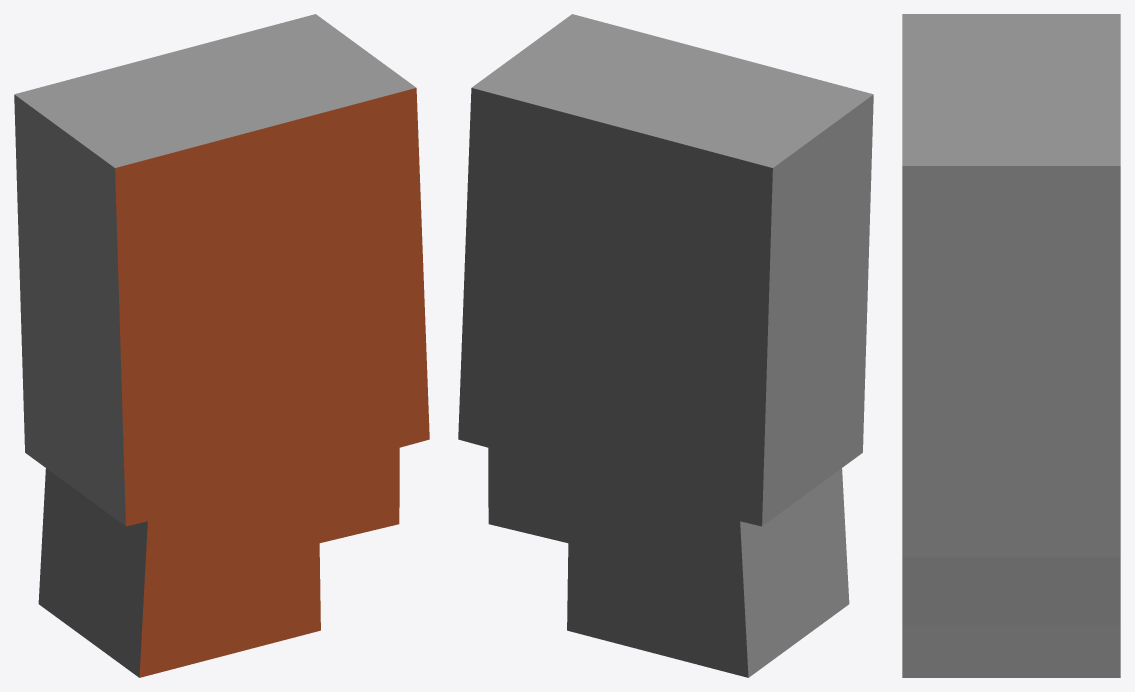
File: construction_3732_assumed_A_Casa_h6m.obj
The picture shows the model from 3 angles, left to right: view 1: azimuth 30°, elevation 25°; view 2: azimuth 150°, elevation 25°; view 3: azimuth 270°, elevation 25°; orthographic projection. The views are drawn at different scales.
Parts seen in each view (by area): view 1: construction_3732_assumed_A_Casa; view 2: construction_3732_assumed_A_Casa; view 3: construction_3732_assumed_A_Casa.
Part boxes in pixels (box(x1,y1,x2,y2)): construction_3732_assumed_A_Casa: box(14, 14, 429, 677); construction_3732_assumed_A_Casa: box(458, 14, 873, 677); construction_3732_assumed_A_Casa: box(902, 14, 1120, 677).
Bounding box in the file's own units: 10.81 × 17.15 × 6.
